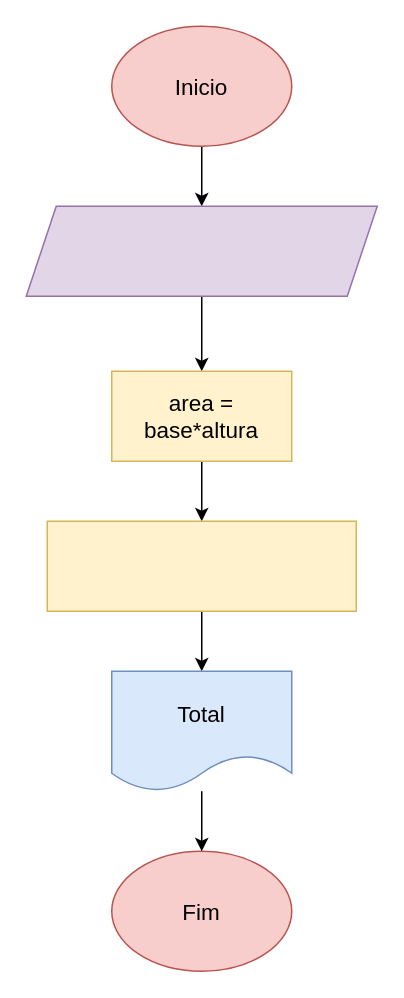
Image size: 404x998. Some labels were removed from this diagram. The centre of each missing label's shape, as x and y in pixels:
"perimetro = base+base+altura+altura" goes at (201,565).
"perimetro, area, base, altura" goes at (201,250).
